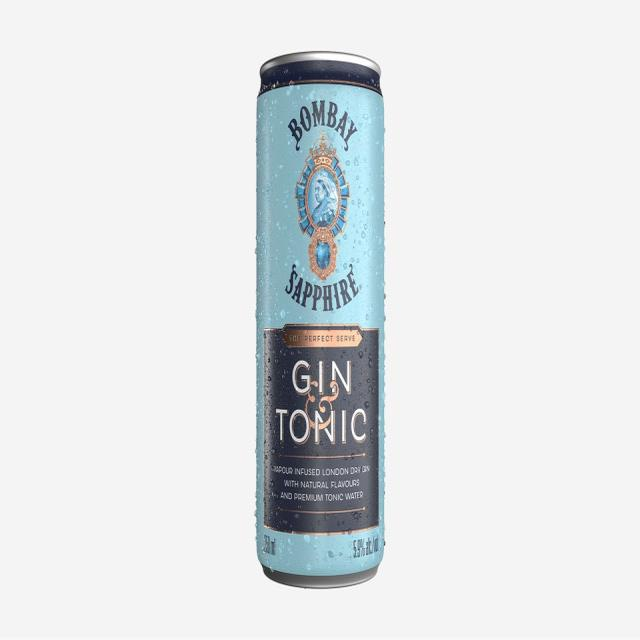Cans: (253, 48, 388, 588)
